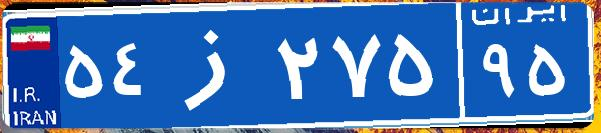2: (273, 28, 330, 110)
4: (110, 28, 158, 105)
5: (385, 28, 445, 110), (57, 26, 110, 107), (525, 38, 570, 115)
7: (330, 28, 385, 110)
9: (475, 38, 525, 113)
ز: (158, 15, 273, 115)
